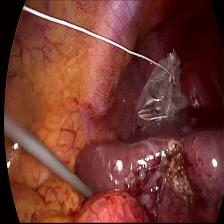Specimen Bag: (123, 42, 192, 133)
